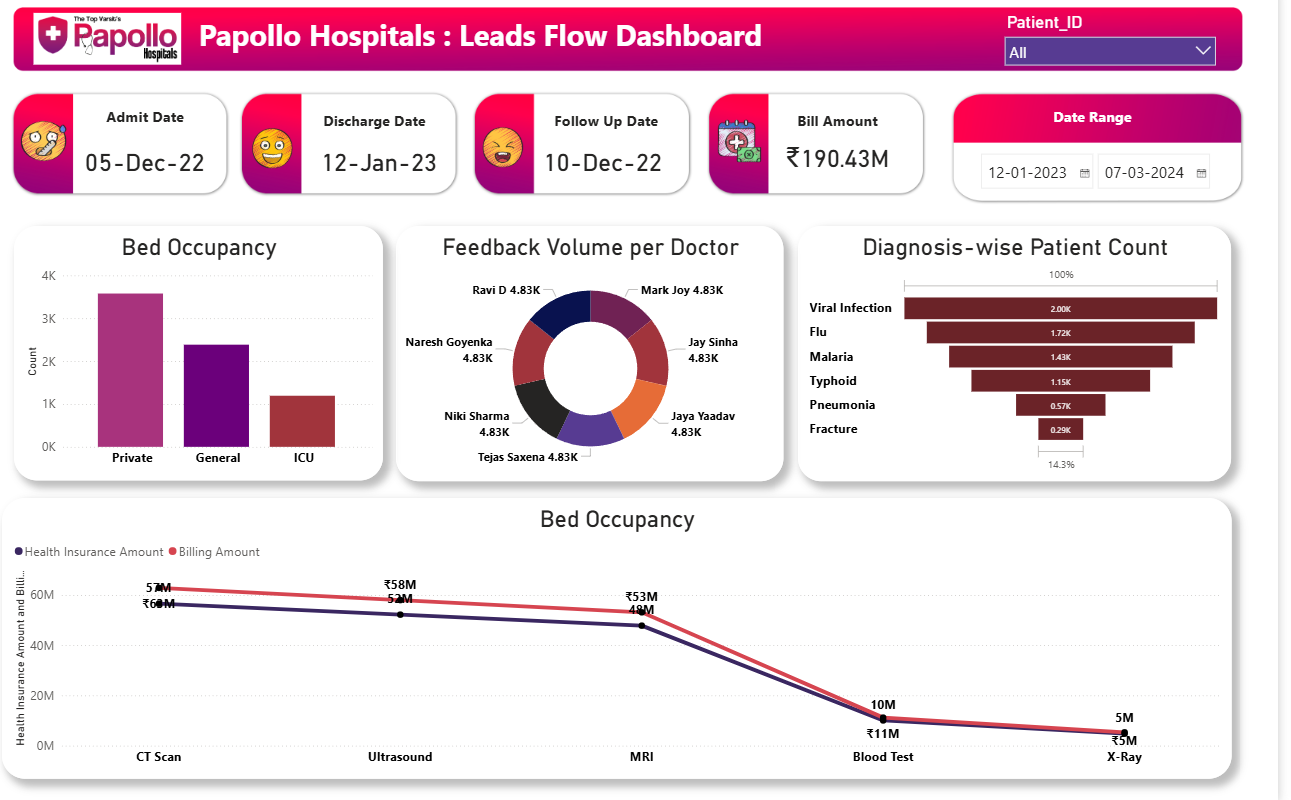

The dashboard page shown, as its layout file describes it:
{"tool":"powerbi","page":{"name":"Page 2","canvas":[1680,1050],"ordinal":0},"visuals":[{"type":"textbox","box":[280,27.1,755.7,74.3],"z":0},{"type":"image","box":[2636.7,100,623.3,150],"z":1000},{"type":"slicer","fields":{"Values":["Sheet1.Patient_ID"]},"box":[2400,373.3,793.3,420],"z":2000},{"type":"card","fields":{"Values":["Min(Sheet1.Admit_Date)"]},"box":[437.6,198.8,162.9,42.8],"z":3000},{"type":"card","fields":{"Values":["Min(Sheet1.Discharge_Date)"]},"box":[129.8,198.8,172.6,42.8],"z":4000},{"type":"card","fields":{"Values":["Min(Sheet1.Followup Date)"]},"box":[724.3,198.6,167.1,42.9],"z":5000},{"type":"textbox","box":[152.9,145.7,127.1,57.1],"z":6000},{"type":"textbox","box":[437.1,151.4,151.4,37.1],"z":7000},{"type":"textbox","box":[732.9,151.4,158.6,37.1],"z":8000},{"type":"textbox","box":[1035.7,151.4,151.4,37.1],"z":9000},{"type":"card","fields":{"Values":["Sum(Sheet1.Billing Amount)"]},"box":[1031.4,194.3,158.6,42.9],"z":10000},{"type":"image","box":[50,157.1,68.6,74.3],"z":11000},{"type":"image","box":[348.6,172.9,62.9,62.9],"z":12000},{"type":"image","box":[640,171.4,77.1,62.9],"z":13000},{"type":"image","box":[951.4,158.6,65.7,71.4],"z":14000},{"type":"columnChart","title":"Bed Occupancy","fields":{"Category":["Sheet1.Bed_Occupancy"],"Y":["CountNonNull(Sheet1.Bed_Occupancy)"]},"box":[47.1,305.7,477.1,328.6],"z":15000},{"type":"donutChart","title":"Feedback Volume per Doctor","fields":{"Category":["Sheet1.Doctor"],"Y":["Sum(Sheet1.Feedback)"]},"box":[540.2,305.2,501,329.5],"z":16000},{"type":"funnel","title":"Diagnosis-wise Patient Count","fields":{"Category":["Sheet1.Diagnosis"],"Y":["CountNonNull(Sheet1.Diagnosis)"]},"box":[1060,305.7,560,330],"z":17000},{"type":"image","box":[30,24.3,274.3,77.1],"z":18000},{"type":"lineChart","title":"Bed Occupancy","fields":{"Y":["Sum(Sheet1.Health Insurance Amount)","Sum(Sheet1.Billing Amount)"],"Category":["Sheet1.Test"]},"box":[31.1,656.3,1589.5,363.3],"z":19000},{"type":"slicer","fields":{"Values":["Sheet1.Admit_Date"]},"box":[1284.3,201.2,360.6,68.9],"z":20000},{"type":"slicer","fields":{"Values":["Sheet1.Patient_ID"]},"box":[1317.1,24.3,292.9,82.9],"z":21000},{"type":"textbox","box":[1365.7,145.7,151.4,37.1],"z":22000}]}

Visuals, with their boxes in screenshot pixels (x1, y1, x2, y2), scaled from the page's 1680x1050 canvas onto the 1291x800 screenshot:
textbox: 215,21,796,77
card - Min(Sheet1.Admit_Date): 336,151,461,184
card - Min(Sheet1.Discharge_Date): 100,151,232,184
card - Min(Sheet1.Followup Date): 557,151,685,184
textbox: 117,111,215,155
textbox: 336,115,452,144
textbox: 563,115,685,144
textbox: 796,115,912,144
card - Sum(Sheet1.Billing Amount): 793,148,914,181
image: 38,120,91,176
image: 268,132,316,180
image: 492,131,551,179
image: 731,121,782,175
"Bed Occupancy" columnChart: 36,233,403,483
"Feedback Volume per Doctor" donutChart: 415,233,800,484
"Diagnosis-wise Patient Count" funnel: 815,233,1245,484
image: 23,19,234,77
"Bed Occupancy" lineChart: 24,500,1245,777
slicer - Sheet1.Admit_Date: 987,153,1264,206
slicer - Sheet1.Patient_ID: 1012,19,1237,82
textbox: 1049,111,1166,139
